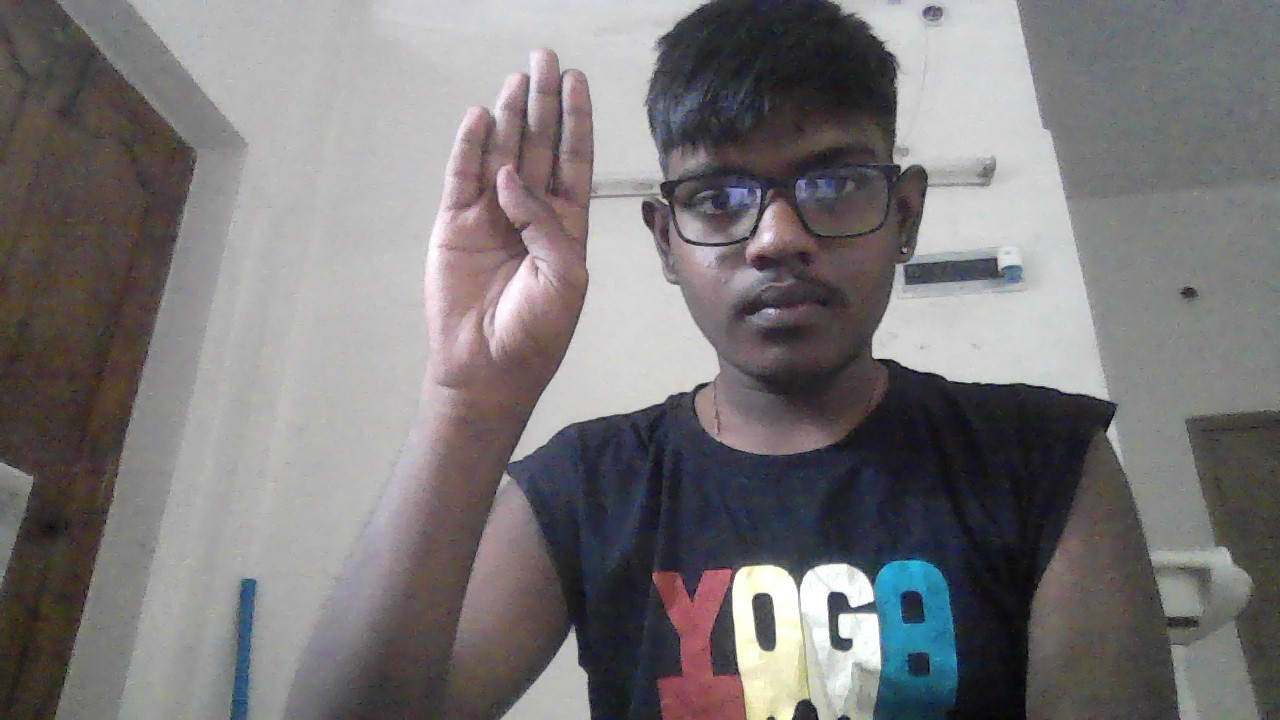B: (424, 49, 593, 398)
